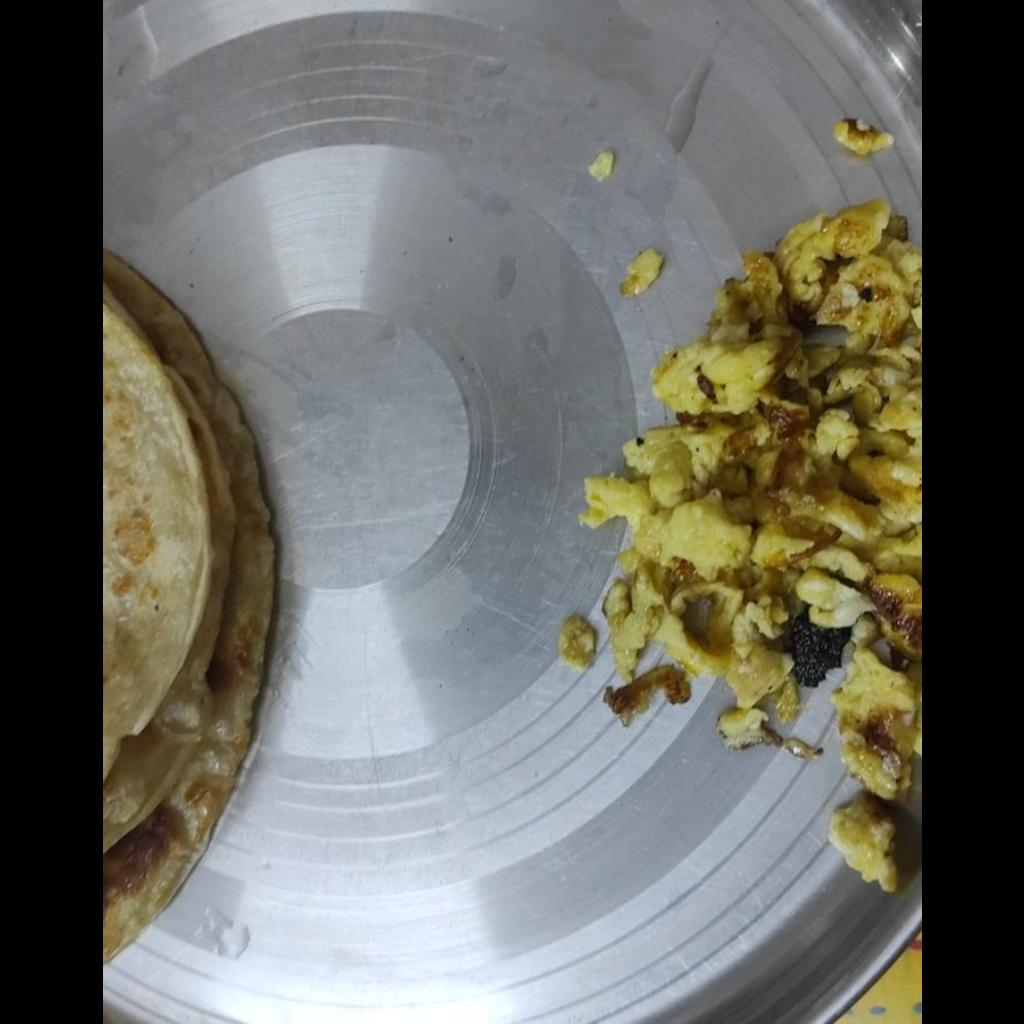beef: (556, 192, 918, 891)
ruti: (103, 247, 280, 960)
